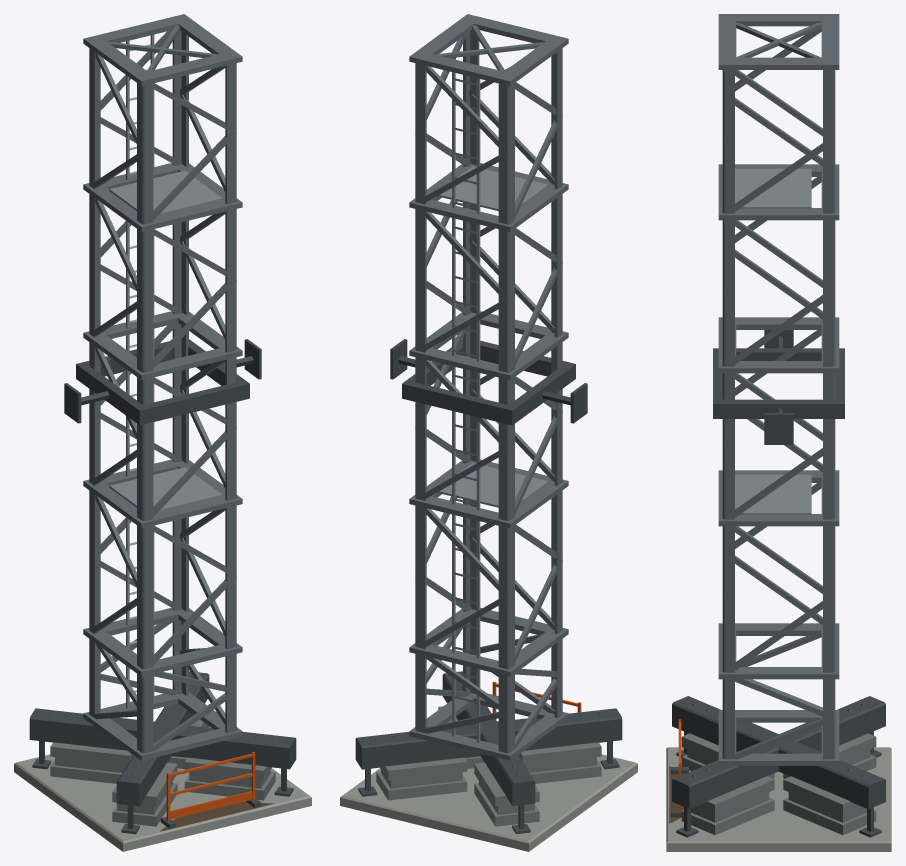
File: tower-crane-mast-1784a3.glb
3 views of the same model, side by side, from view 1: azimuth 30°, elevation 25°; view 2: azimuth 150°, elevation 25°; view 3: azimuth 270°, elevation 25° (orthographic). The views are drawn at different scales.
Parts seen in each view (by area): view 1: mast, foot; view 2: mast, foot; view 3: mast, foot.
Part boxes in pixels (x1=…): mast: x1=64, y1=14, x2=261, y2=760; foot: x1=14, y1=671, x2=311, y2=851; mast: x1=390, y1=14, x2=587, y2=760; foot: x1=340, y1=671, x2=637, y2=851; mast: x1=713, y1=14, x2=844, y2=765; foot: x1=666, y1=696, x2=891, y2=851.
Size of the model in its own units: 4 by 15 by 4.
